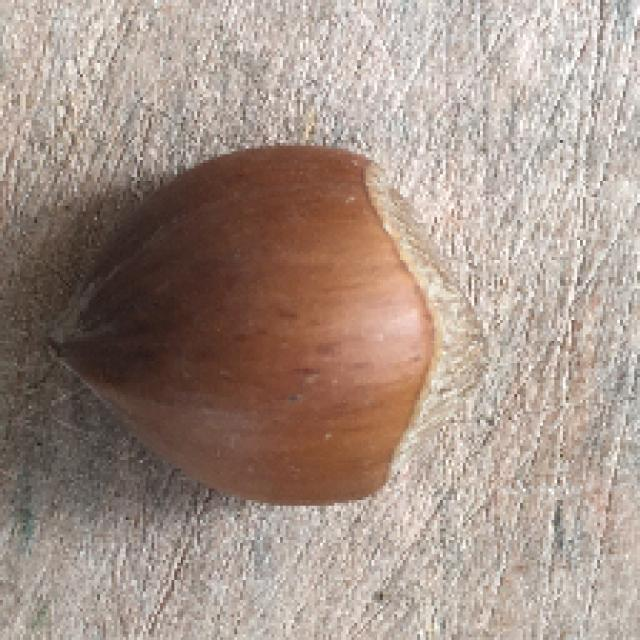damagedHazelnut: (45, 141, 492, 522)
